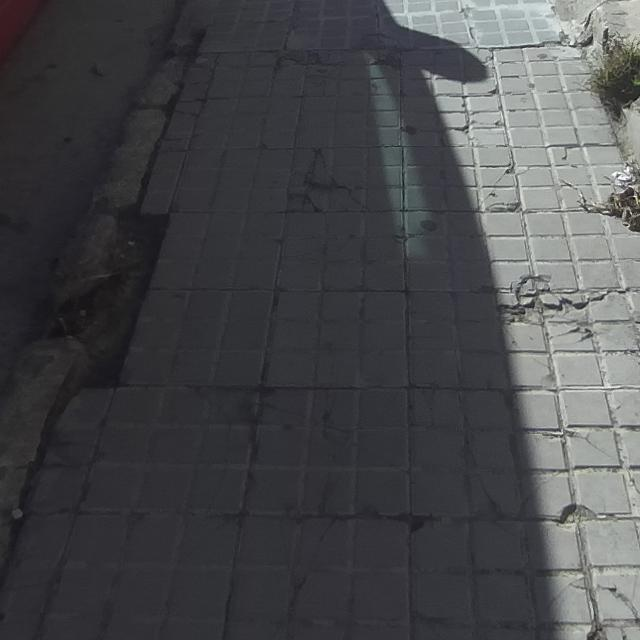calcada_quebrada: (408, 385, 515, 521), (272, 511, 352, 640), (202, 385, 274, 522), (293, 390, 355, 510), (533, 576, 640, 640), (284, 147, 367, 216), (531, 427, 621, 468), (470, 151, 520, 209), (437, 110, 505, 145), (480, 38, 567, 57), (275, 50, 341, 70), (159, 131, 192, 153), (623, 467, 640, 500), (175, 107, 199, 121)
